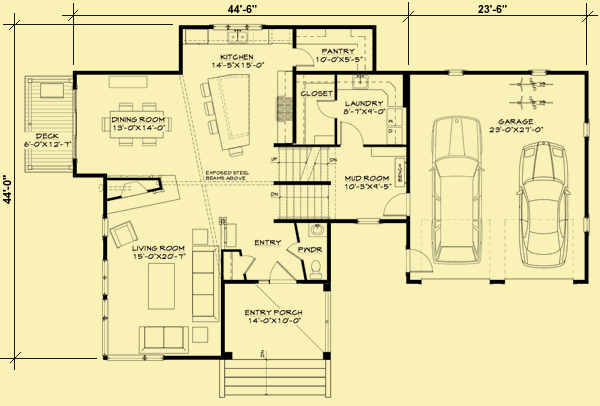dining_table: (101, 101, 174, 148)
door: (380, 191, 413, 218), (405, 248, 433, 275), (339, 119, 365, 146), (267, 261, 299, 282), (293, 46, 318, 70), (315, 98, 338, 119), (240, 251, 257, 278)
kitchen_bar: (197, 73, 254, 161)
large_sink: (307, 254, 325, 281)
large_sofa: (191, 244, 221, 323), (135, 324, 190, 355)
sink: (349, 75, 370, 91)
small_sink: (305, 223, 330, 238)
small_sofa: (108, 219, 139, 251)
stairs: (265, 148, 340, 218), (221, 358, 333, 401)
twin_sink: (225, 29, 251, 45)
window: (99, 260, 111, 353), (100, 258, 110, 355), (526, 67, 549, 77), (446, 67, 465, 78), (353, 218, 382, 225)
